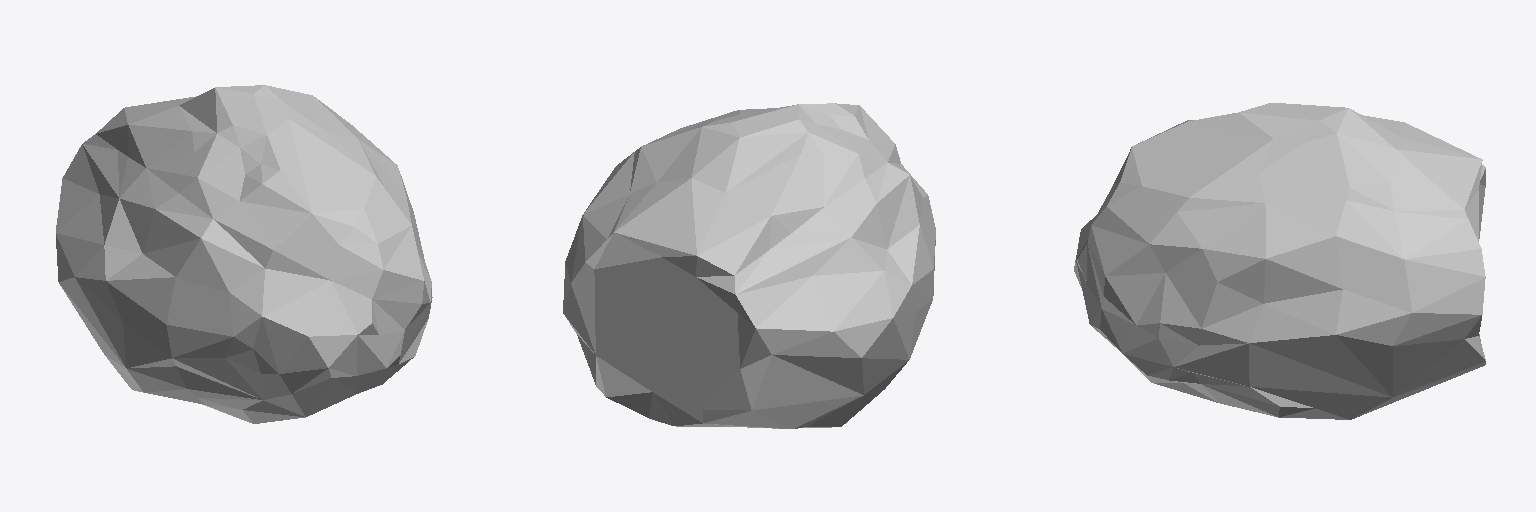
The model's file is asteroid.obj.
3 renders of one model, left to right at view 1: azimuth 30°, elevation 25°; view 2: azimuth 150°, elevation 25°; view 3: azimuth 270°, elevation 25°, orthographic.
Visible parts, largest first — view 1: HeadShotAsteroid; view 2: HeadShotAsteroid; view 3: HeadShotAsteroid.
Boxes of the visible parts, <box> form: HeadShotAsteroid: <box>56,85,432,423</box>; HeadShotAsteroid: <box>563,103,935,428</box>; HeadShotAsteroid: <box>1074,103,1485,419</box>.
Bounding box in the file's own units: 978 × 885 × 1140.